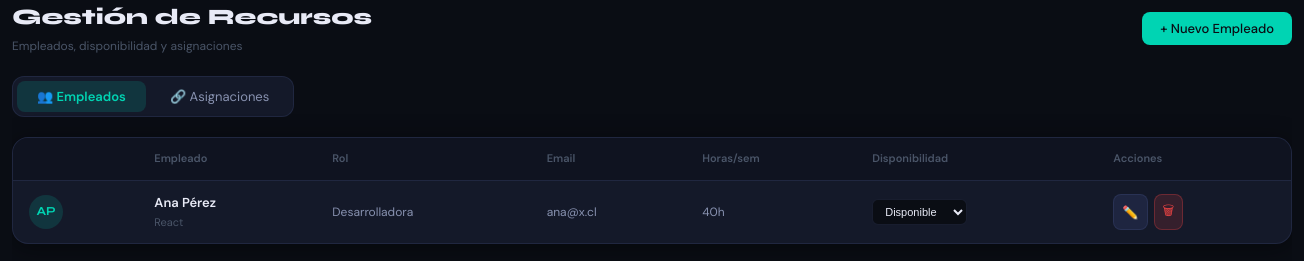
RecursosPage › cambia de pestaña a asignaciones
Check: the text "Ana Pérez" is shown, box [154,194,216,211]
Click the button "🔗 Asignaciones" at (220, 97), box [150,81,289,112]
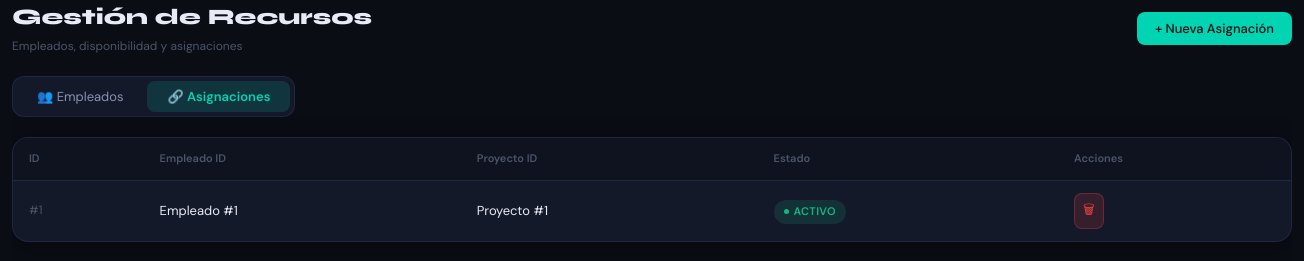
Check: the text "Empleado #1" is shown, box [144,180,461,241]
Check: the text "Proyecto #1" is shown, box [461,180,758,241]
